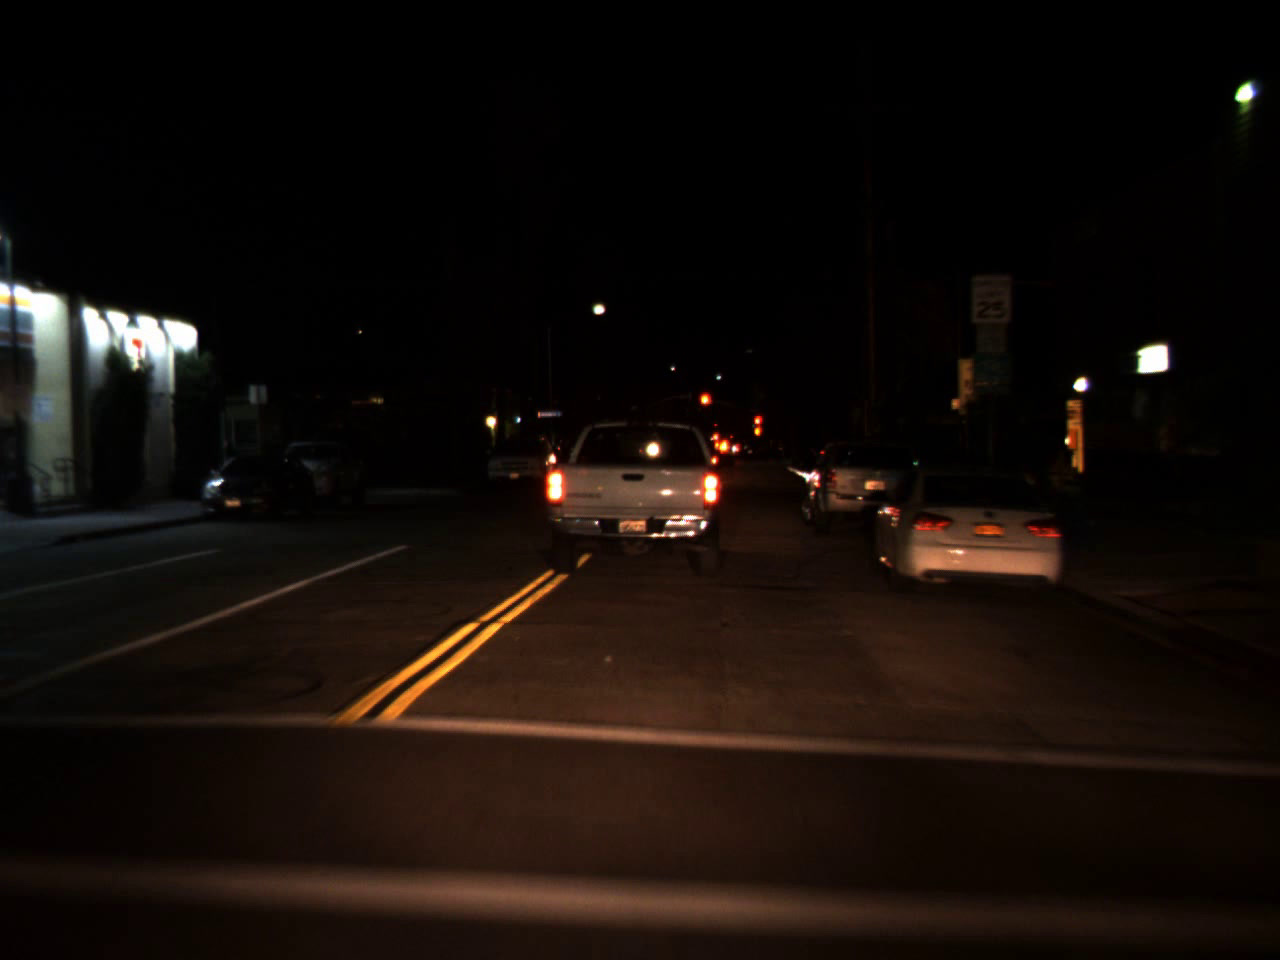stop: (701, 392, 714, 416), (753, 414, 763, 430)
